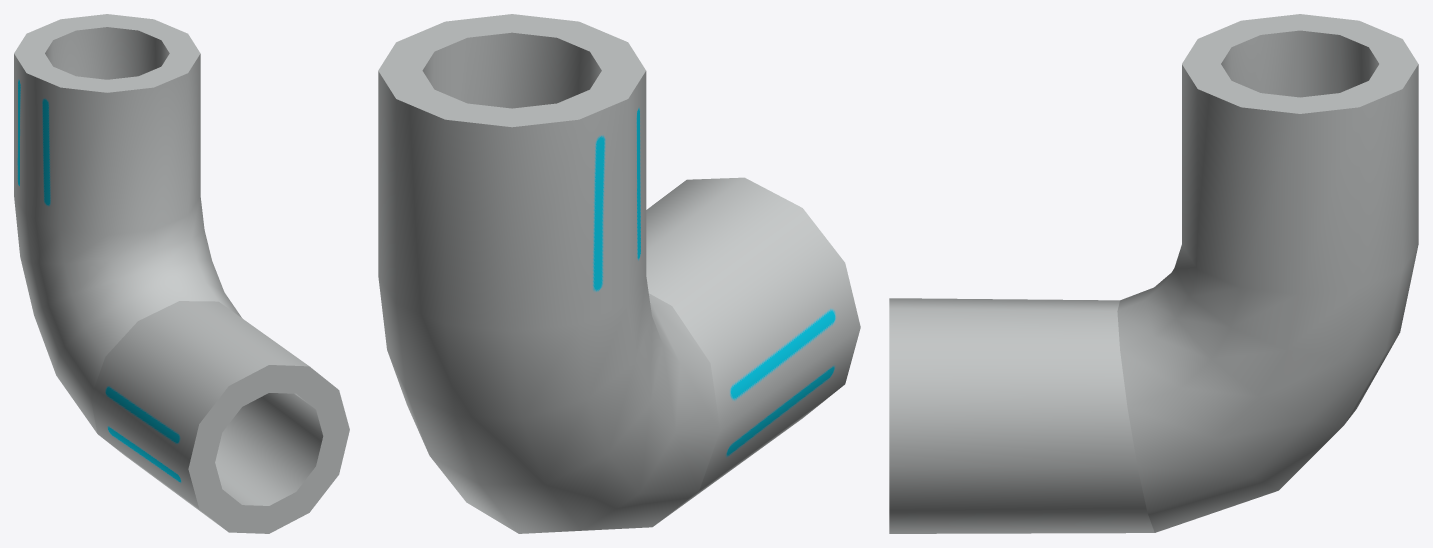
The model's file is Tube_CurveV2.fbx.
3 renders of one model, left to right at view 1: azimuth 30°, elevation 25°; view 2: azimuth 150°, elevation 25°; view 3: azimuth 270°, elevation 25°, orthographic. The views are drawn at different scales.
Visible parts, largest first — view 1: Tube_Curve_V2; view 2: Tube_Curve_V2; view 3: Tube_Curve_V2.
Boxes of the visible parts, x1,y1,x2,y2 form: Tube_Curve_V2: [14, 14, 349, 533]; Tube_Curve_V2: [378, 14, 860, 533]; Tube_Curve_V2: [889, 14, 1418, 533].
Bounding box in the file's own units: 20 × 42.82 × 44.71.
1 material, 1 textured.
